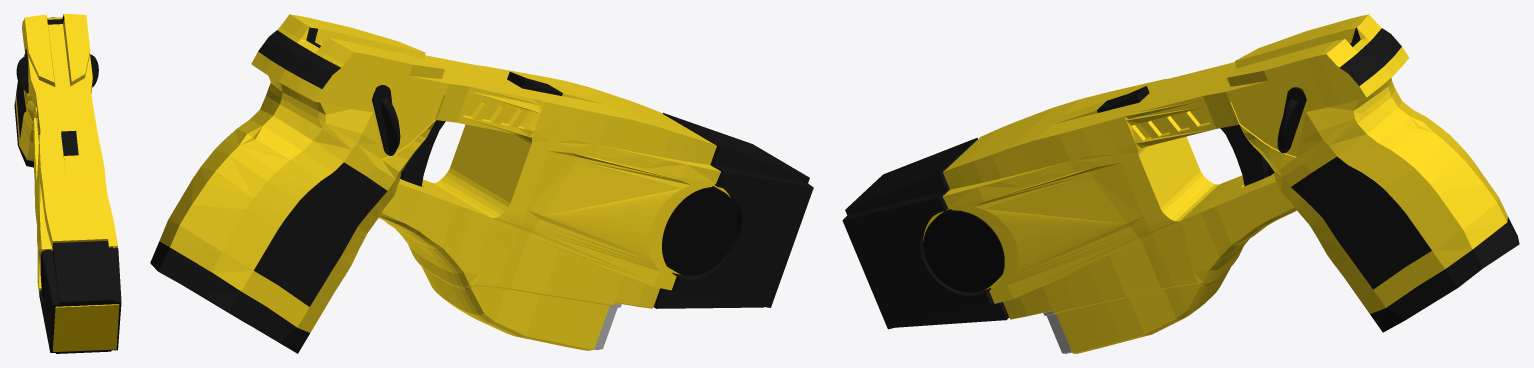
Rendered from taser.obj.
The picture shows the model from 3 angles, left to right: view 1: azimuth 30°, elevation 25°; view 2: azimuth 150°, elevation 25°; view 3: azimuth 270°, elevation 25°; orthographic projection. The views are drawn at different scales.
Parts seen in each view (by area): view 1: TaserX26c; view 2: TaserX26c; view 3: TaserX26c.
Part boxes in pixels (x1=…): TaserX26c: x1=14, y1=14, x2=121, y2=353; TaserX26c: x1=150, y1=14, x2=813, y2=353; TaserX26c: x1=842, y1=14, x2=1519, y2=353.
Size of the model in its own units: 0.4815 by 0.5084 by 0.8625.
Materials: 1 (1 with a texture image).
